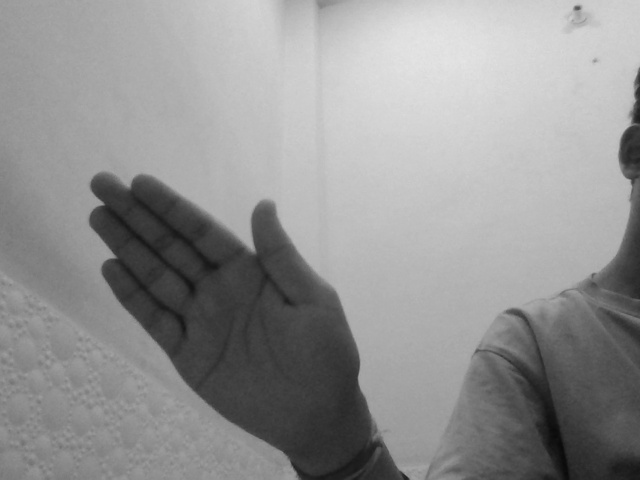Hello: (85, 166, 365, 461)
